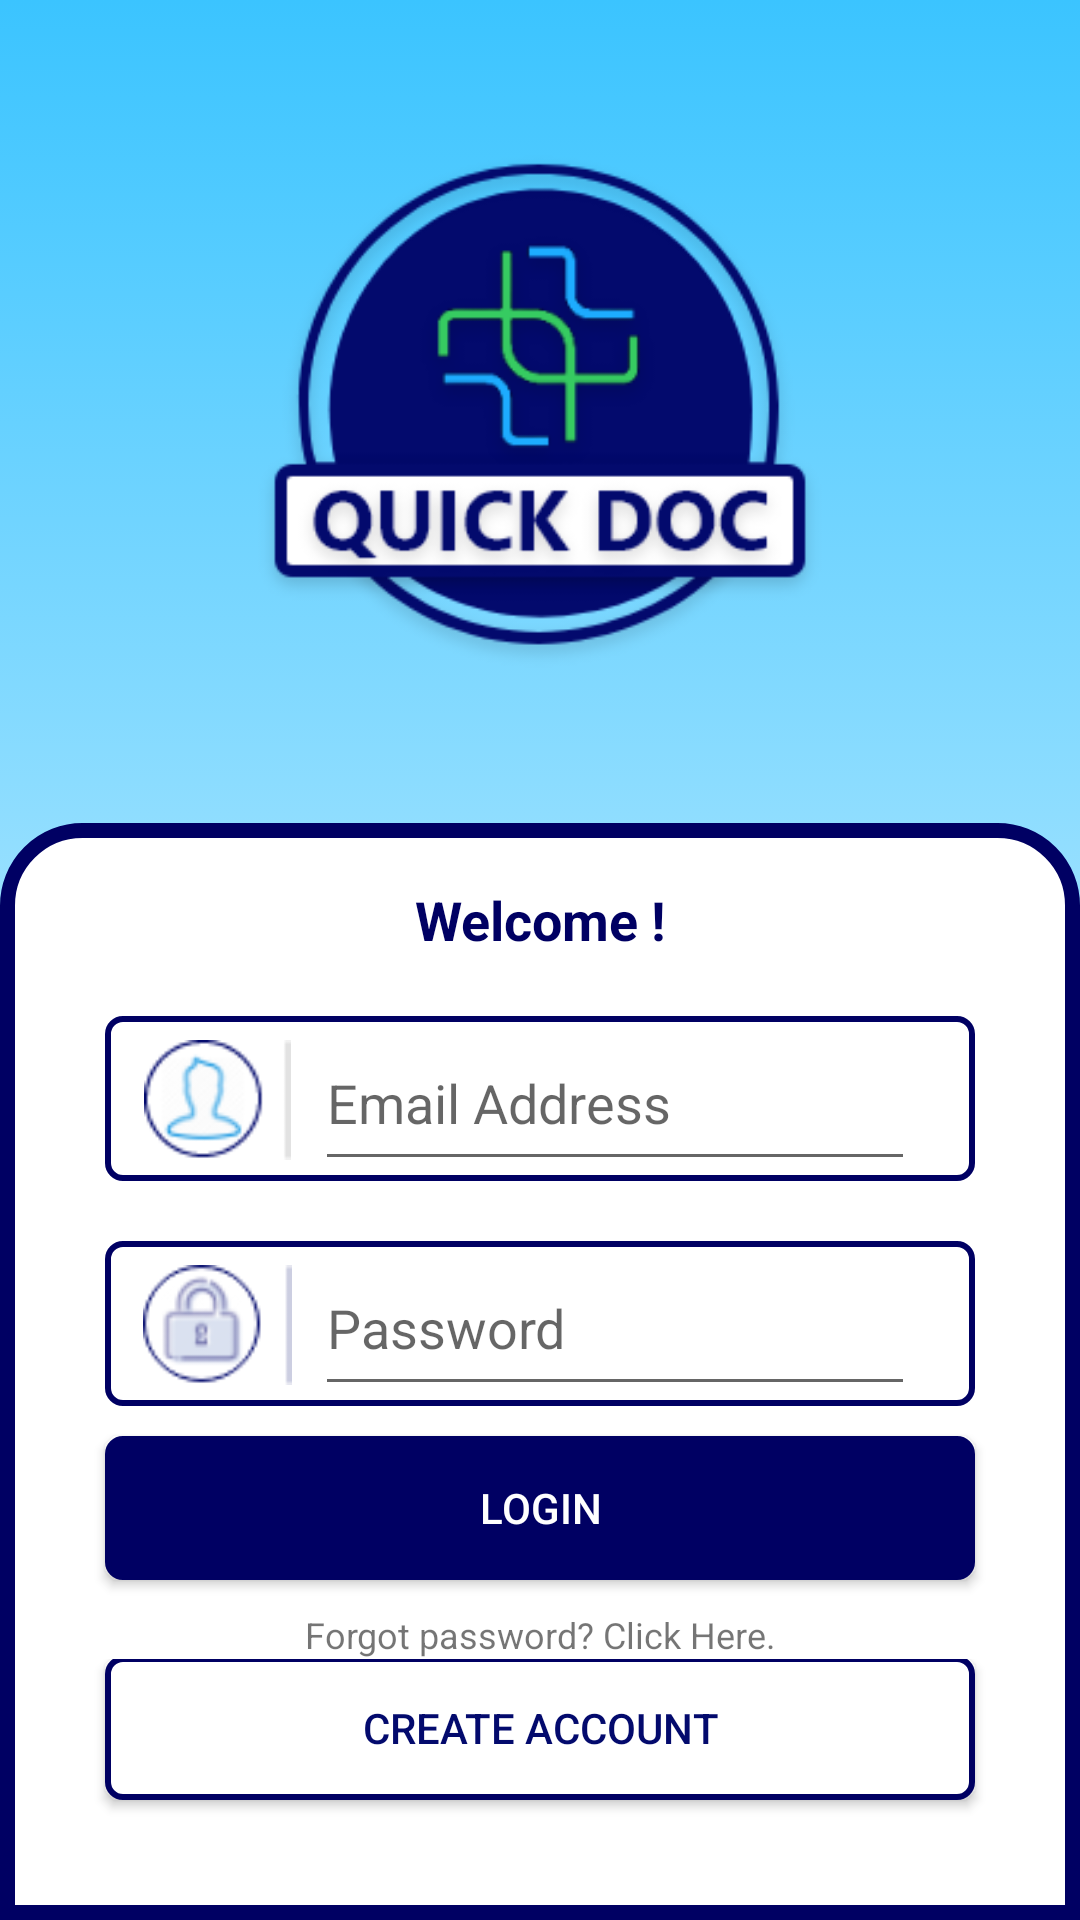

Named icons in this screenshot (1080w x 1920h) and their centers, [x,y]:
user: [217,1099]
